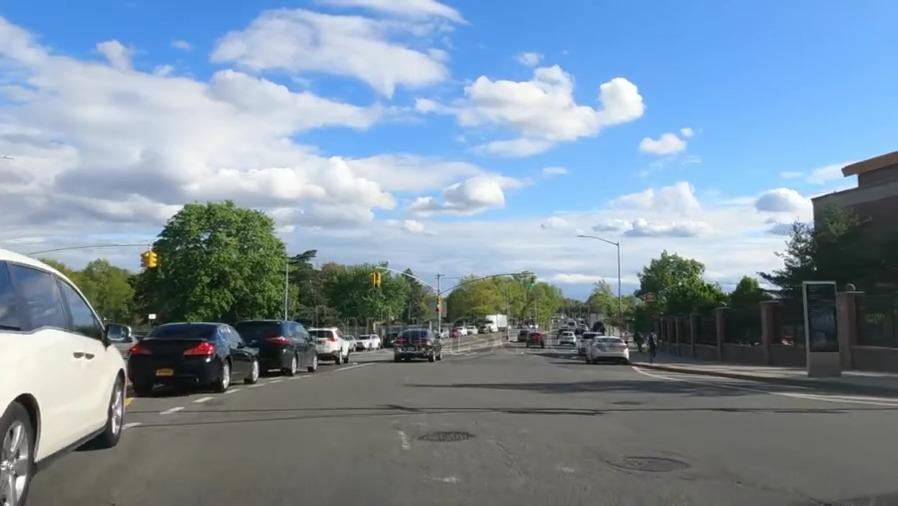car: (1, 239, 131, 503), (129, 319, 260, 399), (238, 311, 322, 379), (308, 319, 348, 369), (589, 335, 631, 366), (357, 331, 382, 355), (577, 330, 593, 353), (526, 331, 545, 347), (557, 331, 577, 346), (344, 333, 358, 351)
manhole: (414, 426, 479, 450)
person: (647, 331, 660, 359), (634, 329, 645, 354)
pothole: (606, 443, 694, 484)
traffic light: (395, 328, 445, 364), (137, 245, 160, 274), (369, 269, 385, 288), (435, 295, 443, 314)
wheel: (5, 391, 39, 503), (98, 369, 129, 446)
